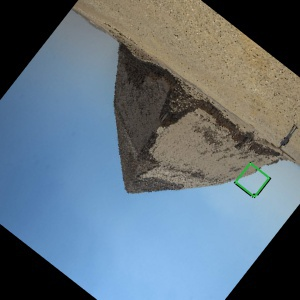square: (233, 160, 272, 199)
